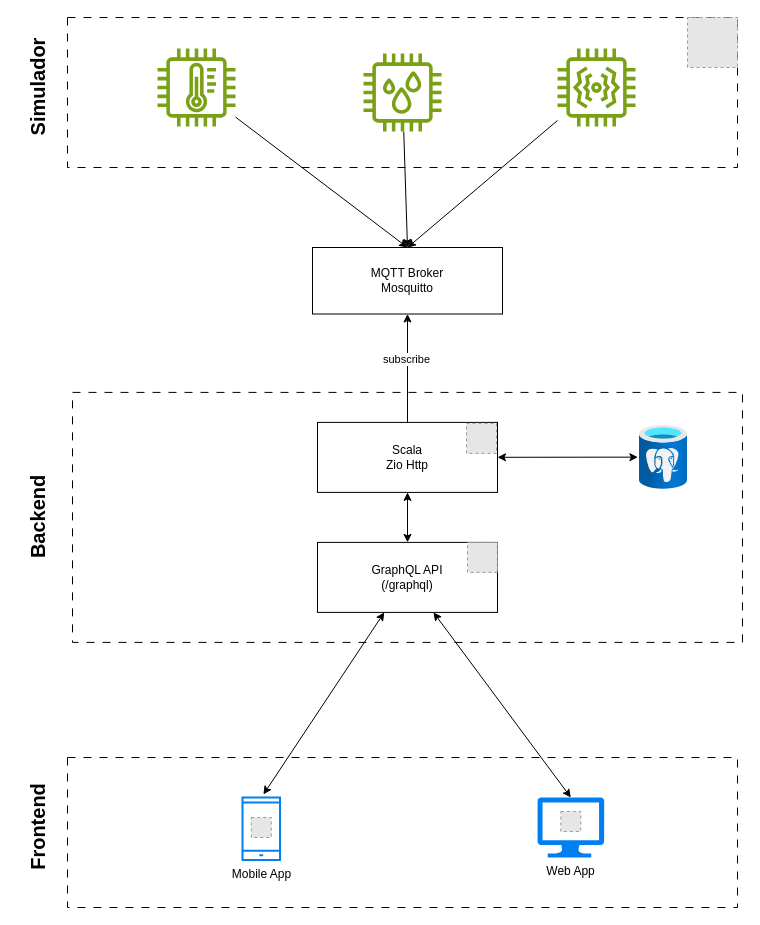
Some shapes in this 760 by 925 pixel diagram are drawn without their labels. Grey dashed boxes stand in for pictures. Here are the shapes that lost their labels. From the top down, the centre of each, then its label:
At pixel 196 87: "Sensor 1".
At pixel 402 92: "Sensor 2".
At pixel 596 87: "Sensor 3".
